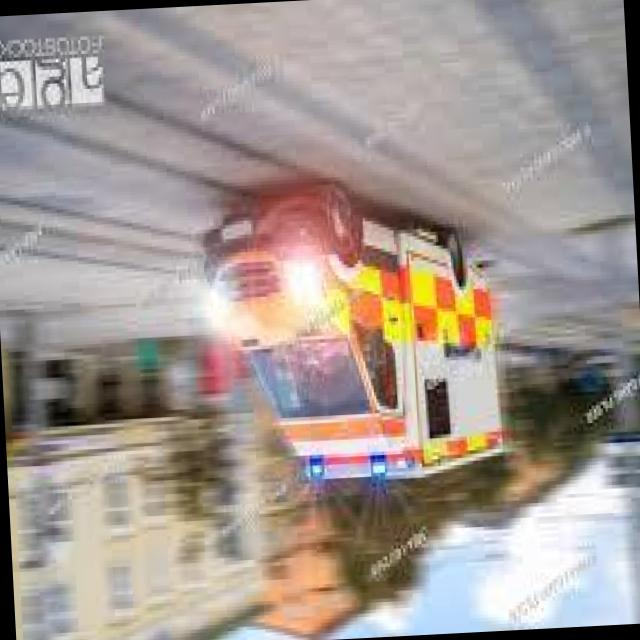ambulance: (352, 225, 487, 436), (297, 436, 430, 486)
